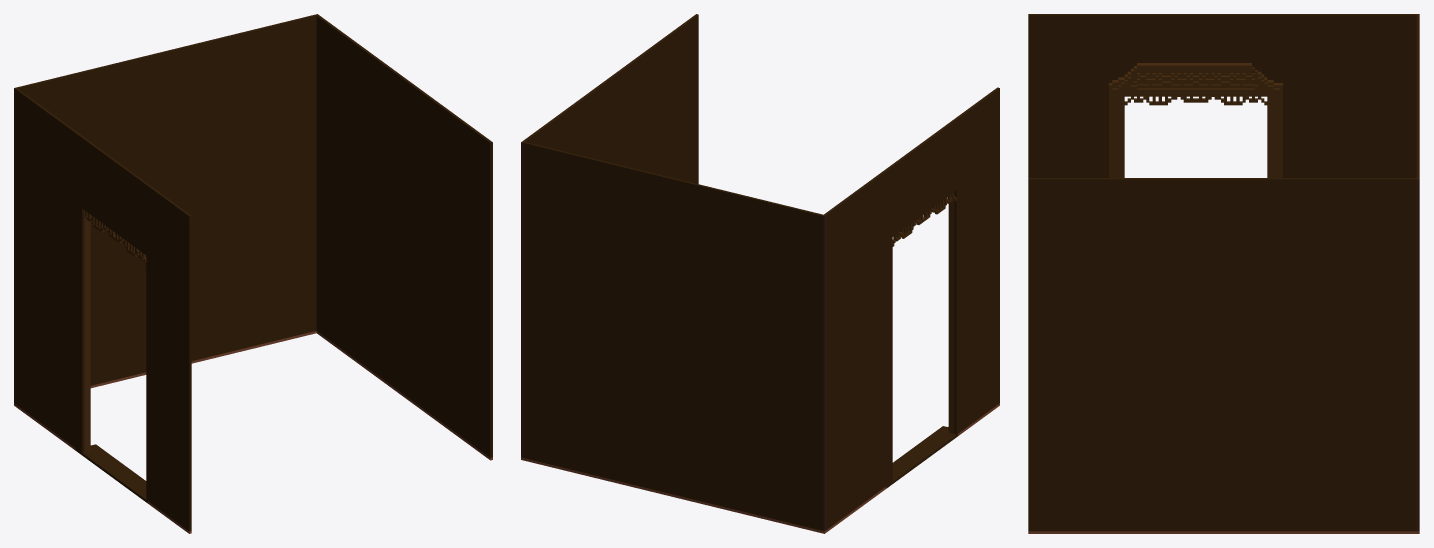
File: c1wall.obj
The picture shows the model from 3 angles, left to right: view 1: azimuth 30°, elevation 25°; view 2: azimuth 150°, elevation 25°; view 3: azimuth 270°, elevation 25°; orthographic projection. The views are drawn at different scales.
Size of the model in its own units: 126 by 126 by 126.
1 material, 1 textured.
